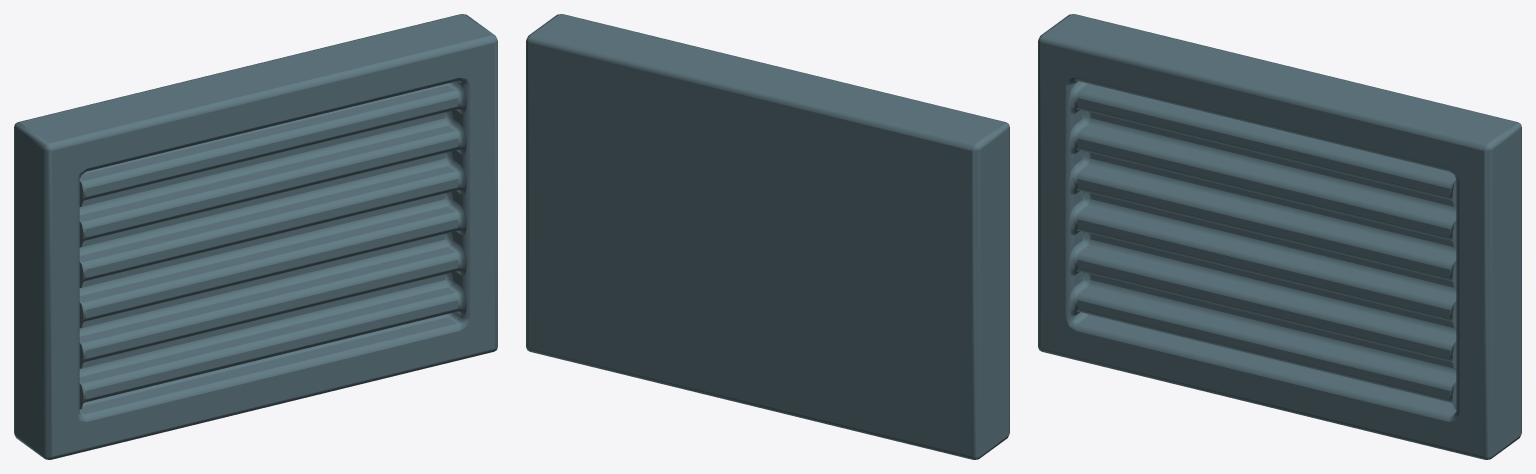
File: ModKit Building - Vent Wall.glb
3 views of the same model, side by side, from view 1: azimuth 30°, elevation 25°; view 2: azimuth 150°, elevation 25°; view 3: azimuth 330°, elevation 25° (orthographic).
Visible parts, largest first — view 1: SM_Vent_Wall; view 2: SM_Vent_Wall; view 3: SM_Vent_Wall.
Boxes of the visible parts, x1,y1,x2,y2 form: SM_Vent_Wall: (14,14,497,459); SM_Vent_Wall: (526,14,1009,459); SM_Vent_Wall: (1038,14,1521,459).
Size of the model in its own units: 0.9 by 0.6 by 0.1251.
